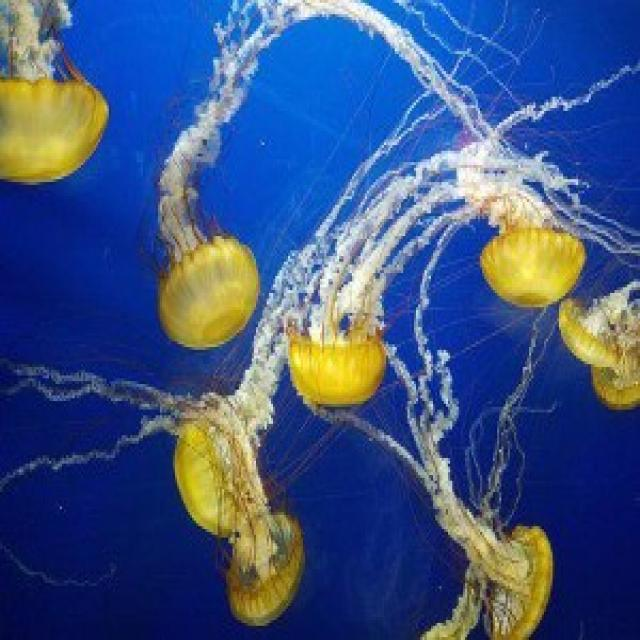Jellyfish: (148, 104, 257, 340), (0, 0, 109, 193), (444, 509, 574, 640), (463, 202, 594, 306), (166, 400, 269, 529), (231, 503, 309, 640), (287, 301, 379, 407)
